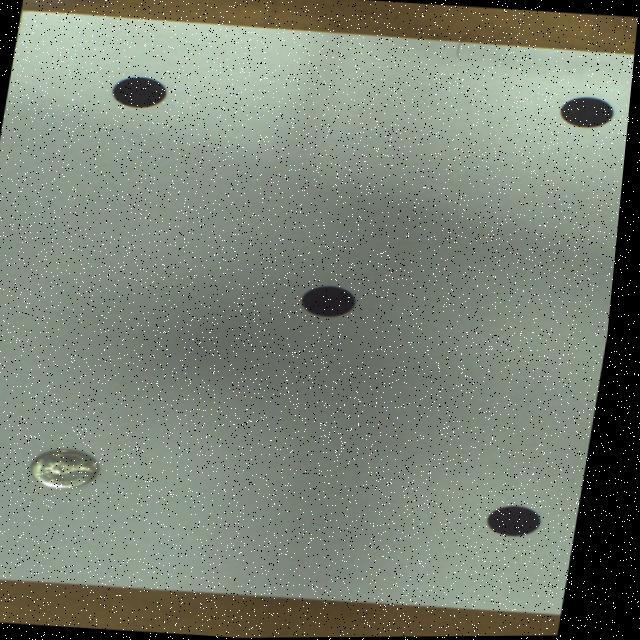space: (561, 98, 615, 128), (308, 286, 360, 317), (114, 77, 167, 107), (497, 507, 550, 537)
tail1bath: (40, 449, 108, 488)
